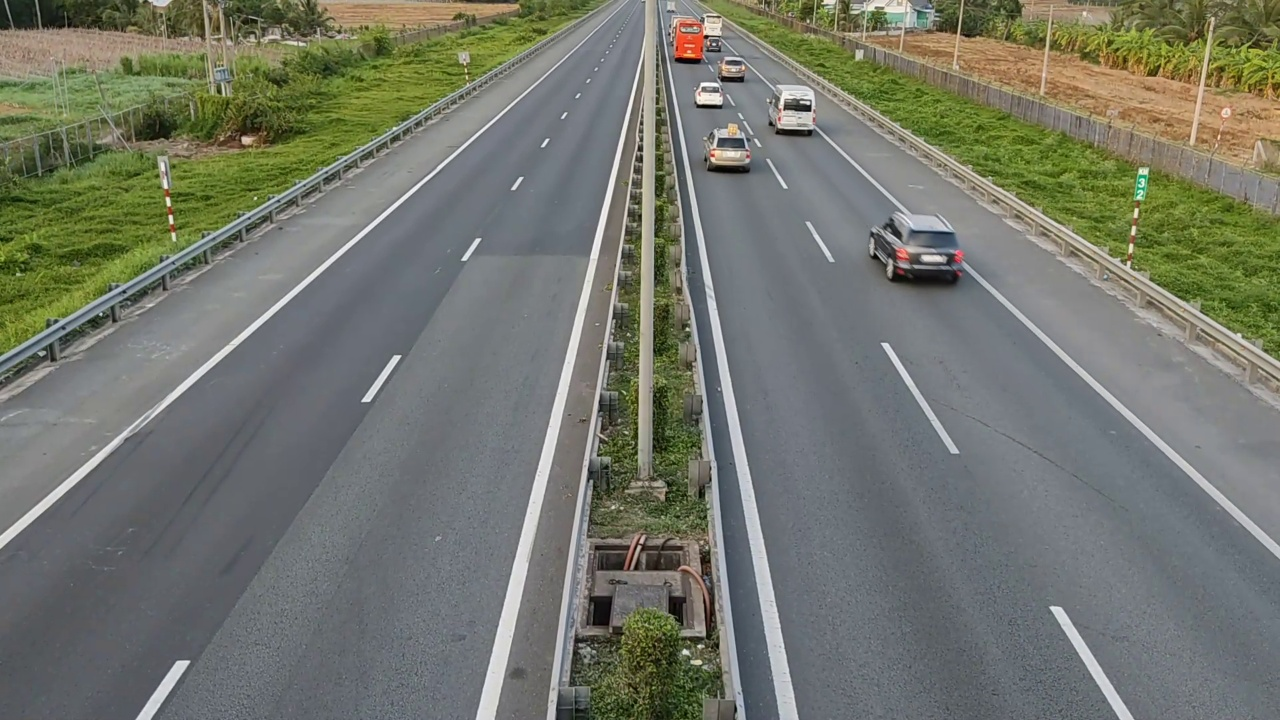car: (867, 211, 965, 283), (764, 81, 817, 140), (704, 129, 752, 173), (693, 81, 724, 108), (717, 56, 747, 82)
